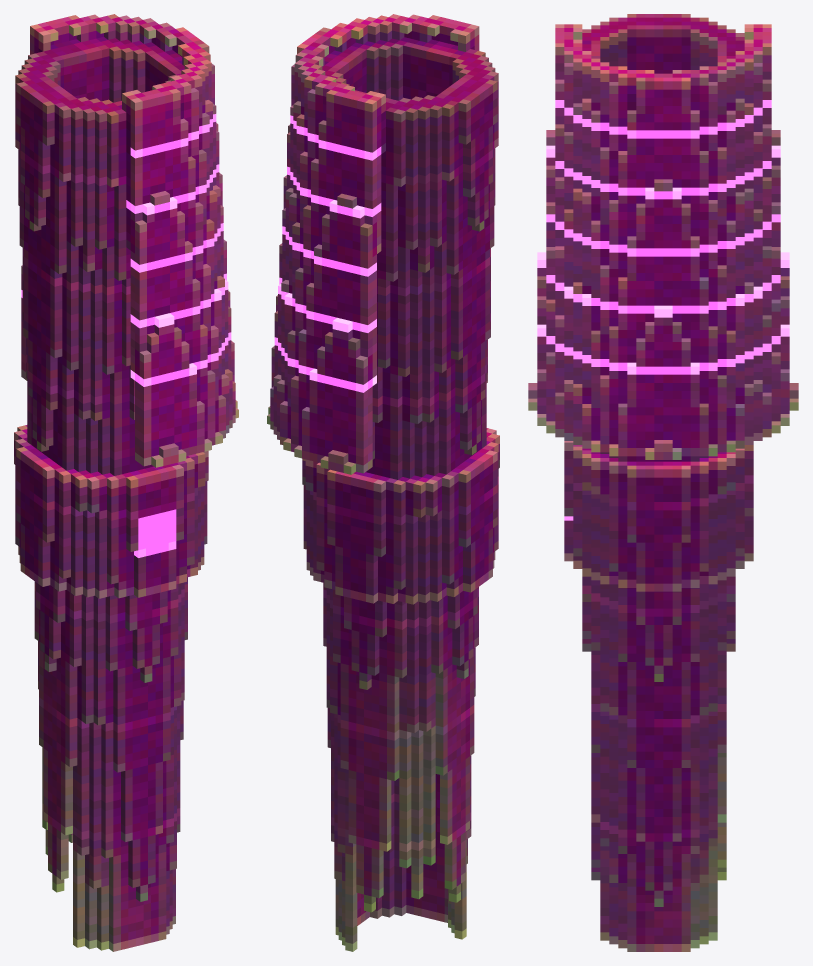
Rendered from armor_set2_legs.glb.
The picture shows the model from 3 angles, left to right: view 1: azimuth 30°, elevation 25°; view 2: azimuth 150°, elevation 25°; view 3: azimuth 270°, elevation 25°; orthographic projection. The views are drawn at different scales.
Parts seen in each view (by area): view 1: Set2_AbyssalPlateGreave_7mm; view 2: Set2_AbyssalPlateGreave_7mm; view 3: Set2_AbyssalPlateGreave_7mm.
Part boxes in pixels (x1=…): Set2_AbyssalPlateGreave_7mm: x1=14, y1=14, x2=238, y2=951; Set2_AbyssalPlateGreave_7mm: x1=267, y1=14, x2=499, y2=951; Set2_AbyssalPlateGreave_7mm: x1=528, y1=14, x2=798, y2=951.
Bounding box in the file's own units: 0.175 × 0.763 × 0.21.
